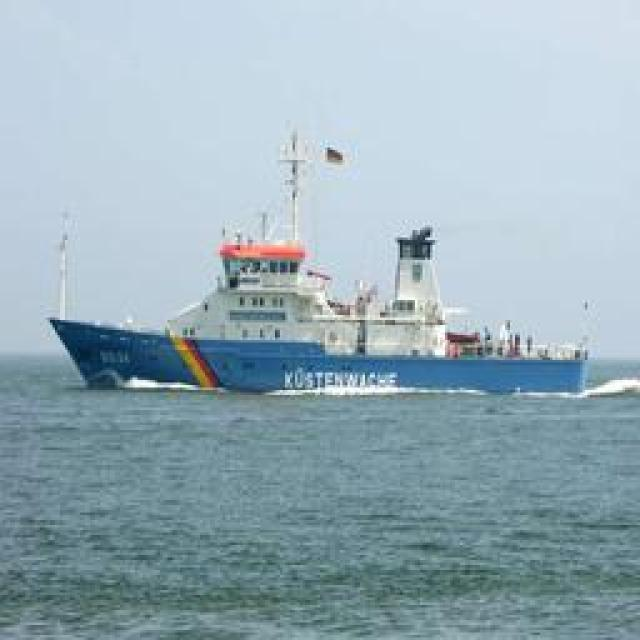ship2: (49, 126, 592, 400)
